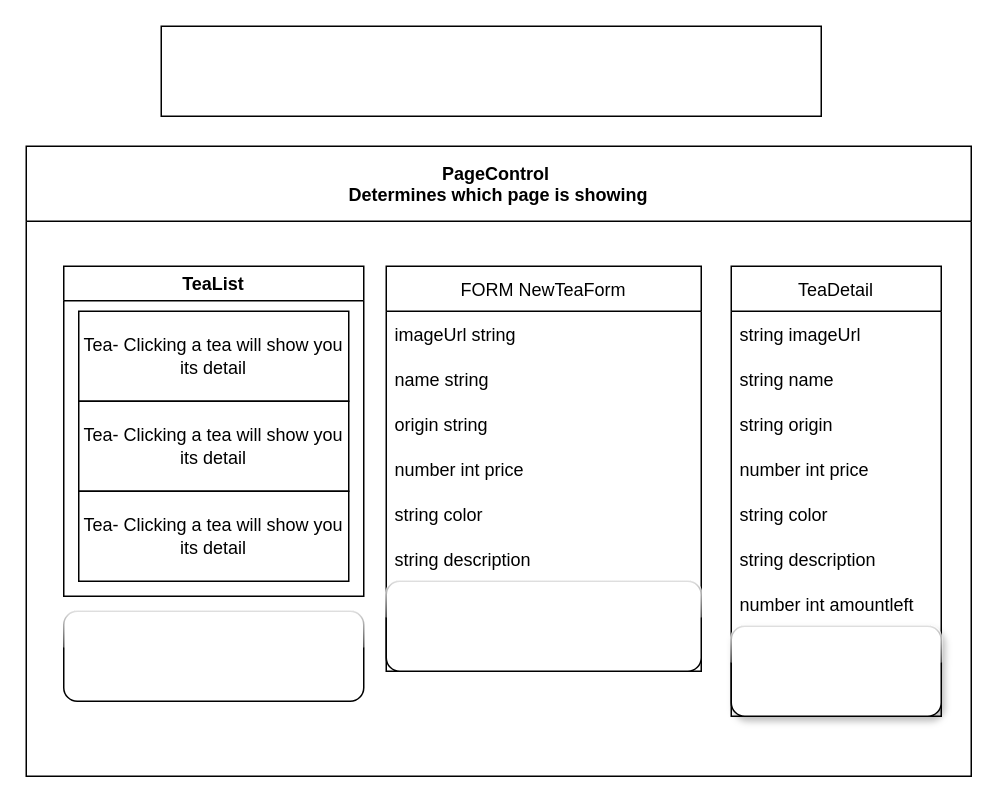
Image size: 998x803. Some labels were removed from this diagram. The shapes that lost their labels are listed below. From the top down, each one's centre as x and y in pixels, then its label:
(490,70): Header
(543,625): Submit adds the new tea and shows the TeaList component
(213,655): Add Tea - Clicking this button will show NewTeaForm
(837,673): Update/Delete/Sell
